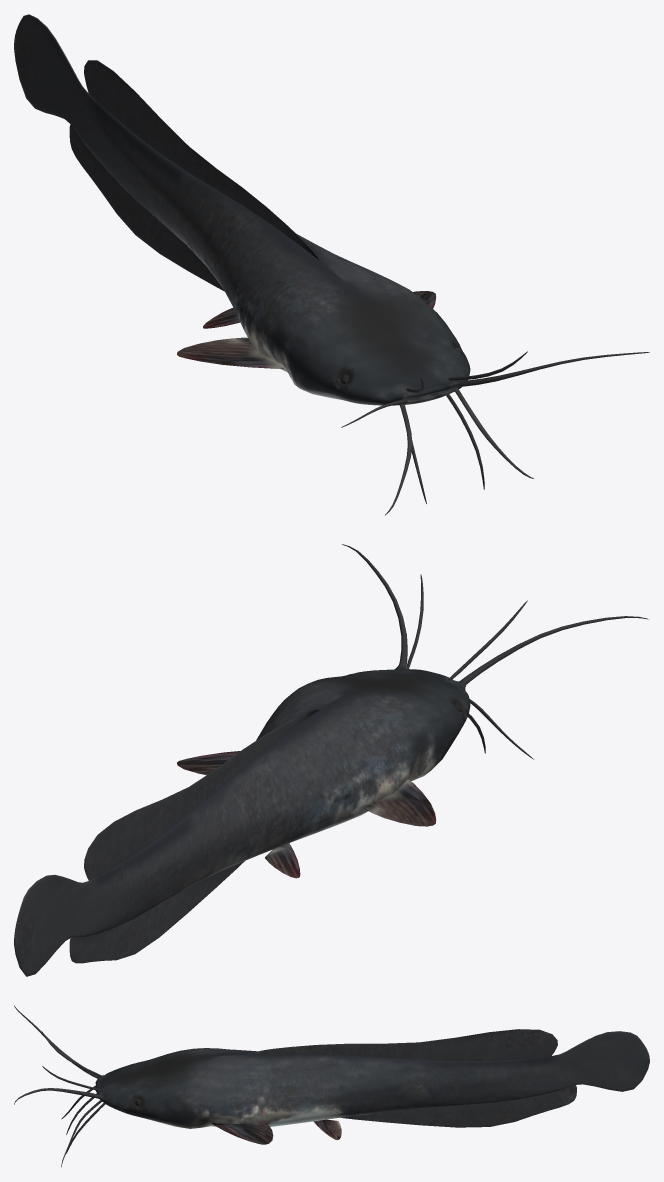
Rendered from normal.fbx.
3 views of the same model, one above another, from view 1: azimuth 30°, elevation 25°; view 2: azimuth 150°, elevation 25°; view 3: azimuth 270°, elevation 25° (orthographic). The views are drawn at different scales.
Visible parts, largest first — view 1: Cube; view 2: Cube; view 3: Cube.
Boxes of the visible parts, left/top/right/bottom form: Cube: left=14, top=14, right=649, bottom=515; Cube: left=14, top=544, right=649, bottom=976; Cube: left=14, top=1005, right=649, bottom=1167.
Size of the model in its own units: 532 by 289 by 1436.
Materials: 1 (1 with a texture image).
